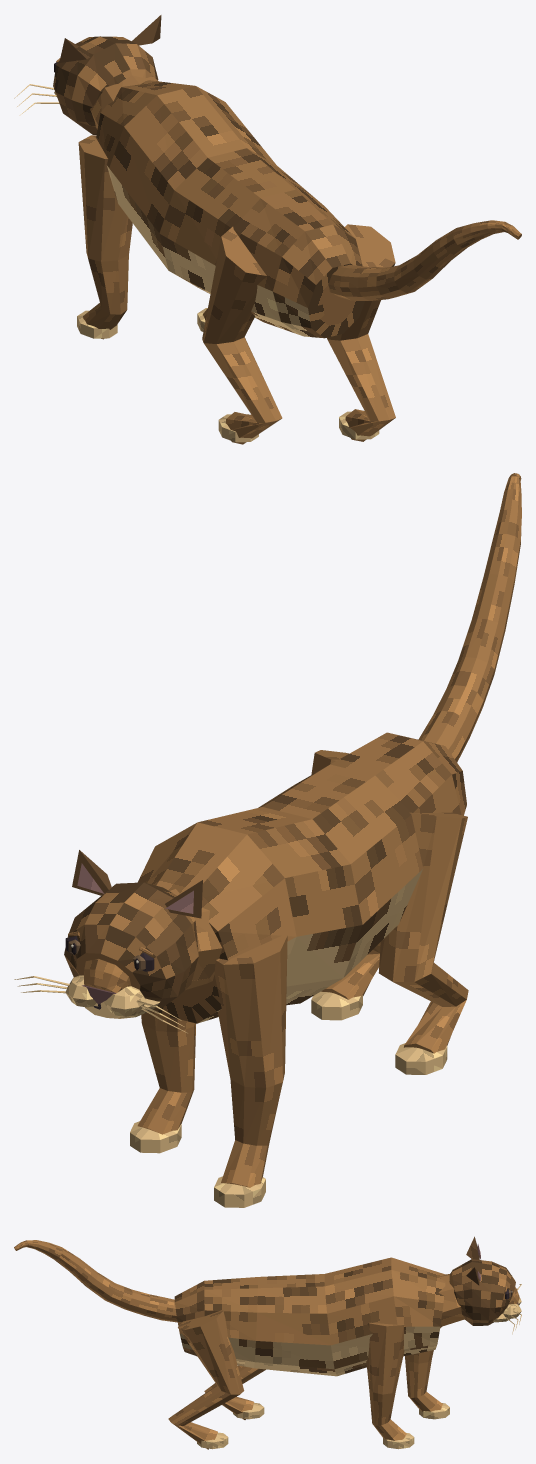
Rendered from mon_cat_bengal.glb.
3 renders of one model, top to bottom at view 1: azimuth 30°, elevation 25°; view 2: azimuth 150°, elevation 25°; view 3: azimuth 270°, elevation 25°, orthographic. The views are drawn at different scales.
Visible parts, largest first — view 1: closed_body; view 2: closed_body; view 3: closed_body.
Boxes of the visible parts, box(x1,y1,x2,y2) form: closed_body: box(14, 15, 521, 444); closed_body: box(14, 473, 521, 1207); closed_body: box(14, 1236, 521, 1449).
Bounding box in the file's own units: 0.1758 × 0.3903 × 0.8568.
Materials: 1 (1 with a texture image).
